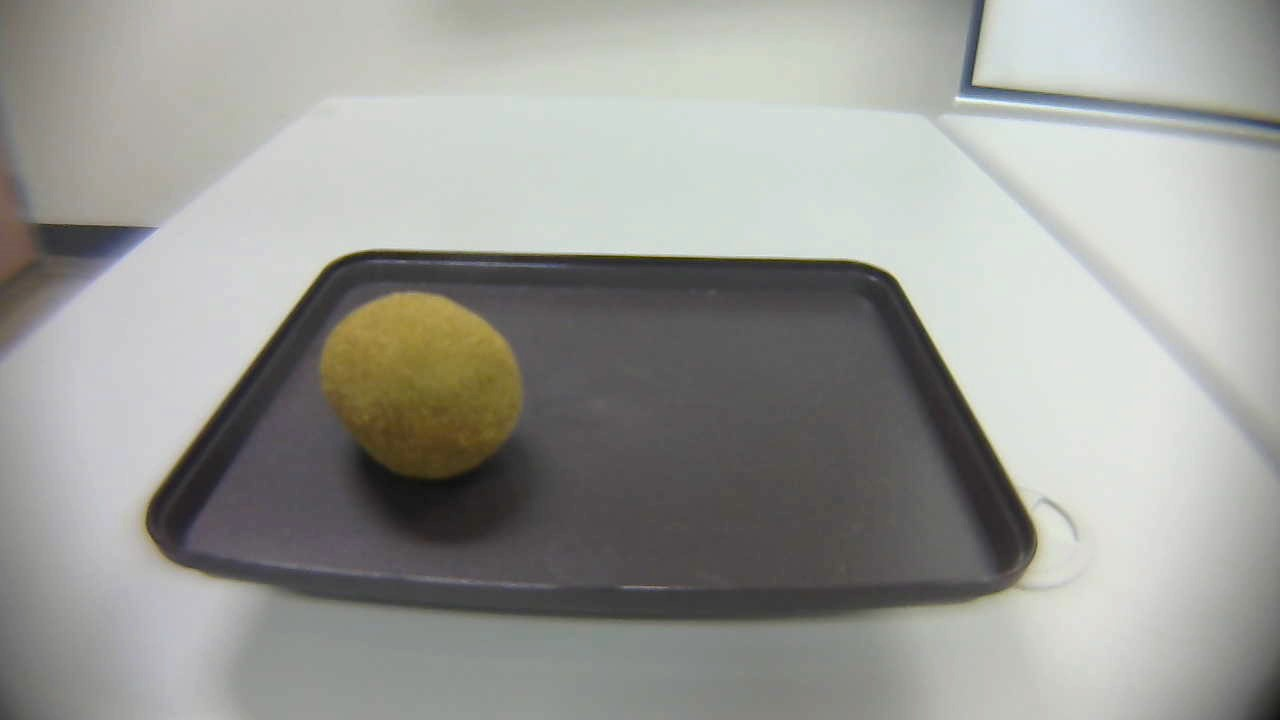kiwi fruit: (307, 284, 543, 492)
